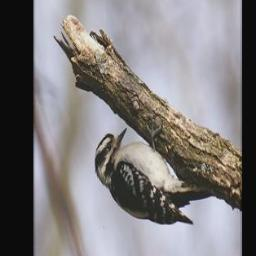Woodpecker: (87, 124, 215, 234)
